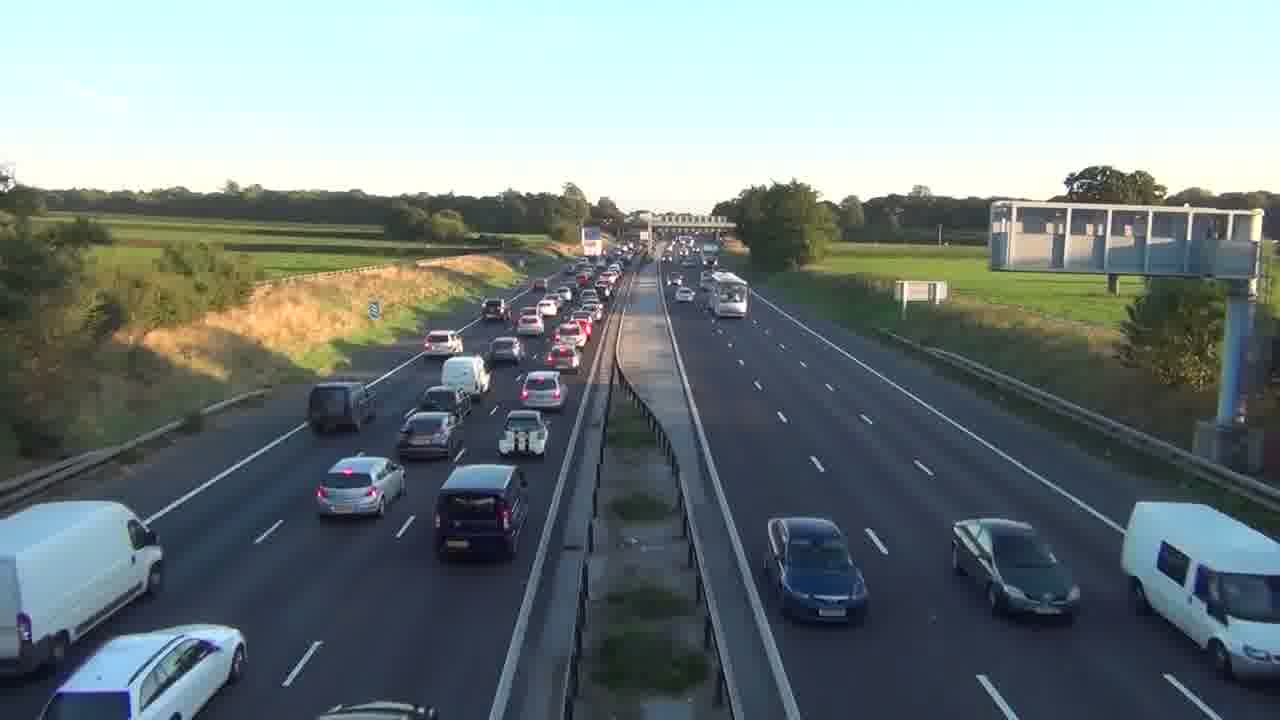car: (39, 622, 248, 719), (765, 514, 869, 627), (432, 462, 530, 564), (315, 454, 405, 518), (396, 409, 458, 460), (497, 409, 550, 457), (315, 700, 439, 719), (517, 369, 565, 413)
truck: (0, 499, 165, 682), (1120, 500, 1279, 684), (951, 516, 1082, 621), (306, 378, 381, 434), (440, 354, 493, 401)
